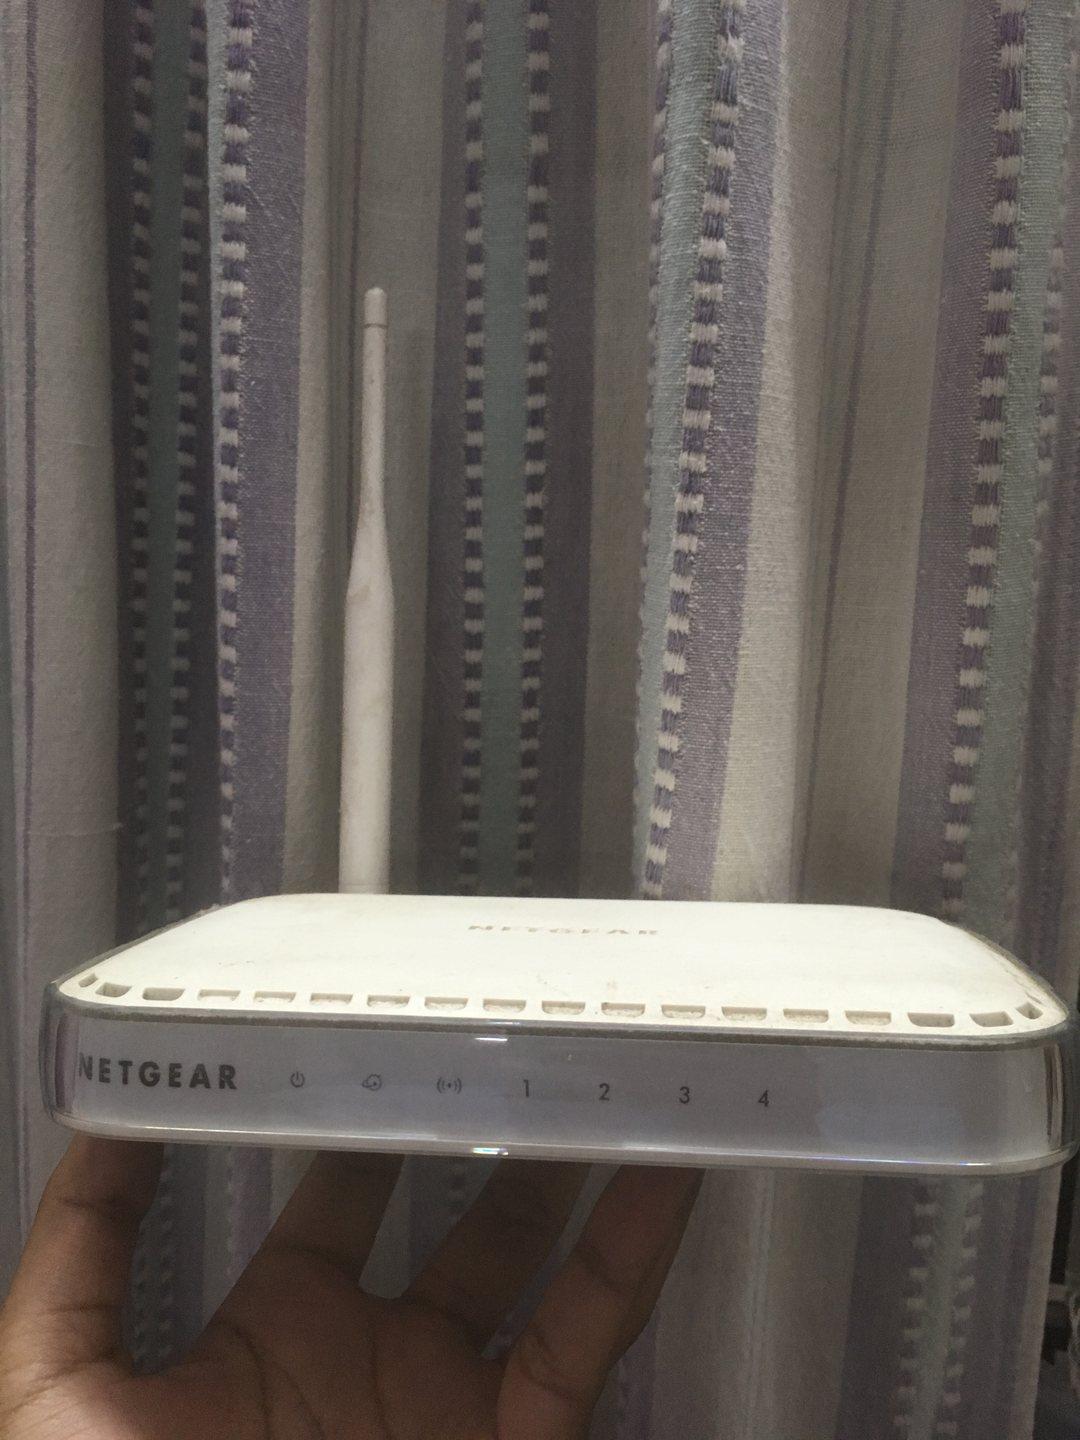NETGEAR: (66, 1043, 248, 1104)
modem: (31, 979, 1079, 1178)
